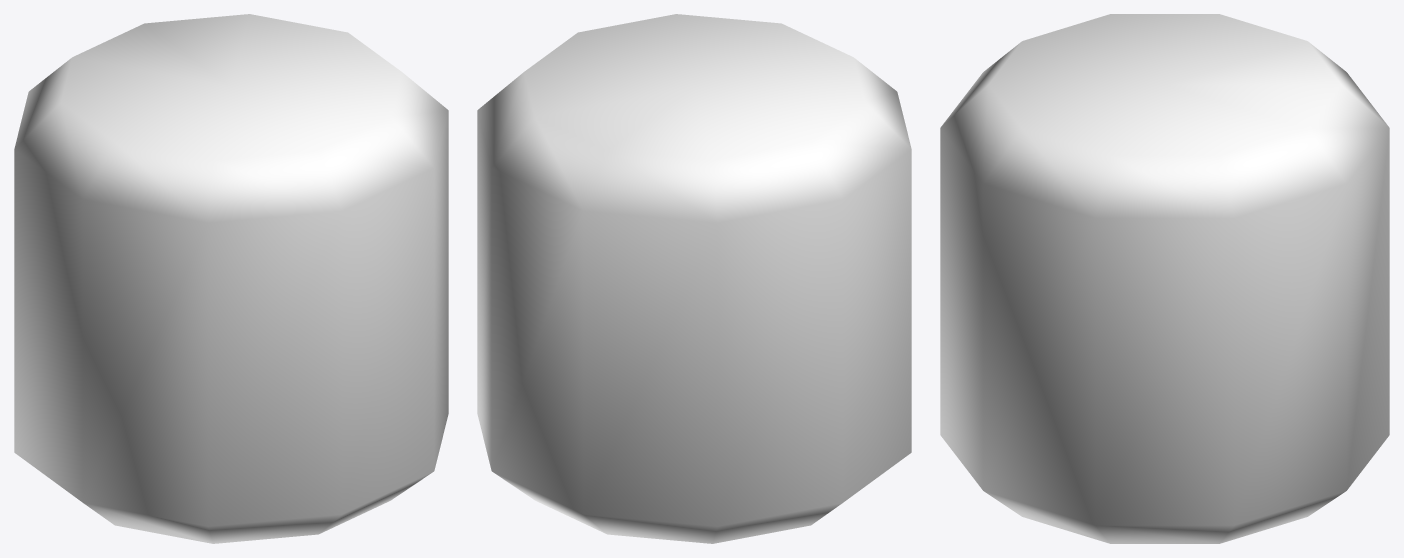
Rendered from Marshmallow_Raw.fbx.
3 views of the same model, side by side, from view 1: azimuth 30°, elevation 25°; view 2: azimuth 150°, elevation 25°; view 3: azimuth 270°, elevation 25° (orthographic).
Visible parts, largest first — view 1: Marshmallow_Raw; view 2: Marshmallow_Raw; view 3: Marshmallow_Raw.
Boxes of the visible parts, left/top/right/bottom form: Marshmallow_Raw: left=14, top=14, right=448, bottom=543; Marshmallow_Raw: left=477, top=14, right=911, bottom=543; Marshmallow_Raw: left=940, top=14, right=1389, bottom=543.
Size of the model in its own units: 18.43 by 18.46 by 19.38.
